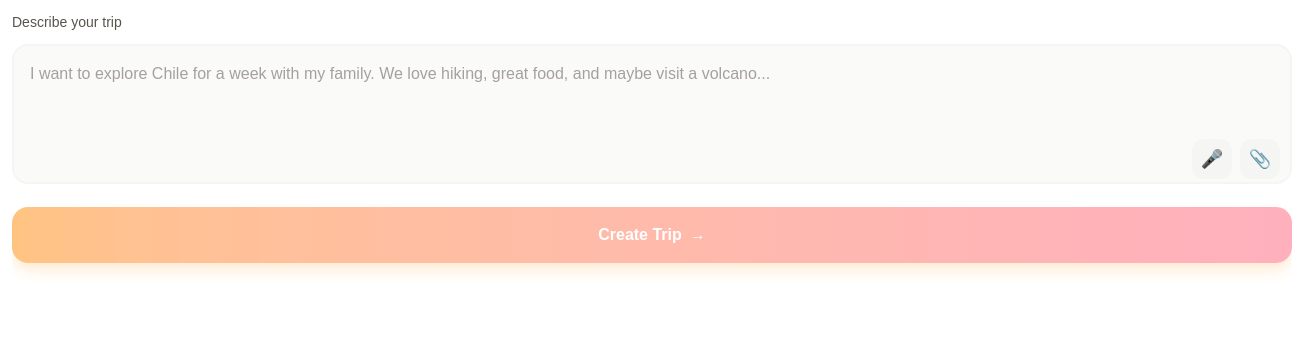
Test: MessageBasedTripCreator › Error Handling › should display error message when API returns error
The width and height of the screenshot is (1304, 364).
Type "Incomplete message" into the text box labelled "Describe your trip".
click(652, 114); type("Incomplete message")  # box [12,44,1292,184]
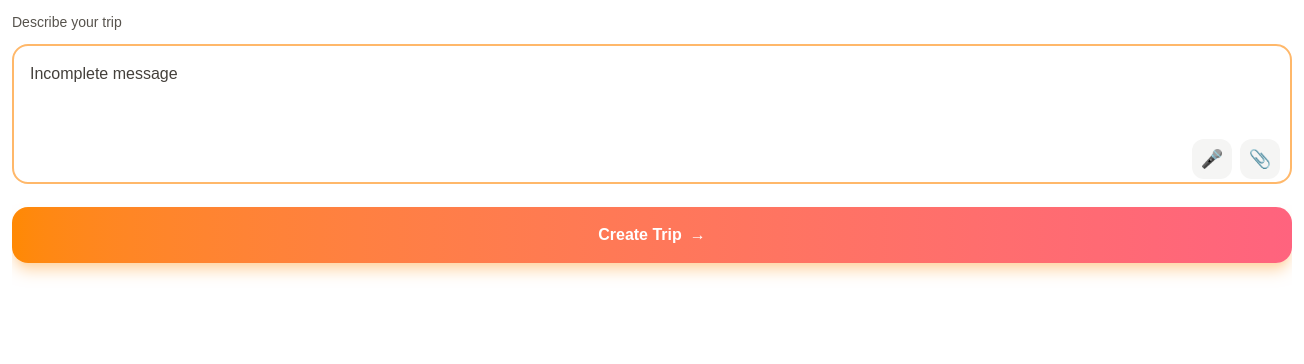
Click the button "Create Trip →".
click(652, 235)  # box [12,207,1292,263]
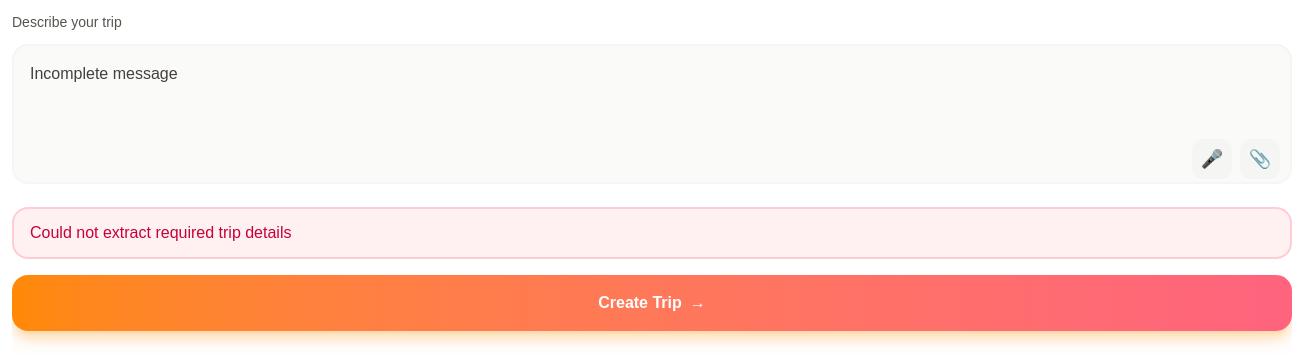
Check: the text "Could not extract required trip details" is shown, box [12,207,1292,259]
